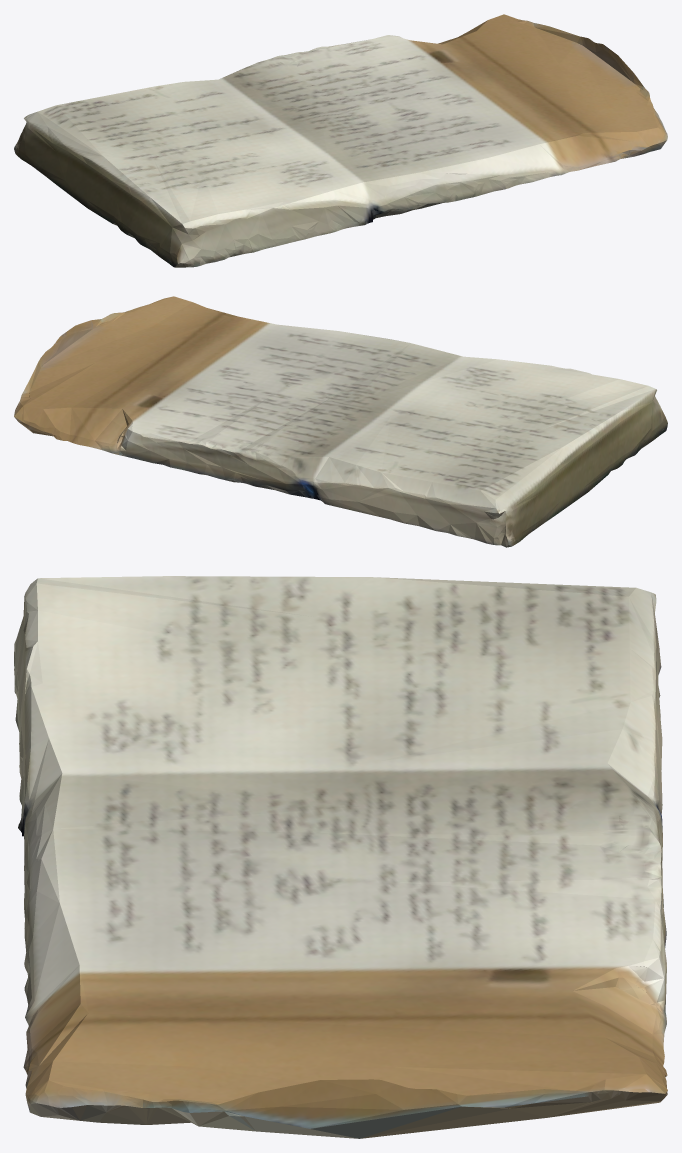
Rendered from NotebookOpen.obj.
3 views of the same model, one above another, from view 1: azimuth 30°, elevation 25°; view 2: azimuth 150°, elevation 25°; view 3: azimuth 270°, elevation 25° (orthographic). The views are drawn at different scales.
Size of the model in its own units: 135 by 11.11 by 74.77.
Materials: 1 (1 with a texture image).
